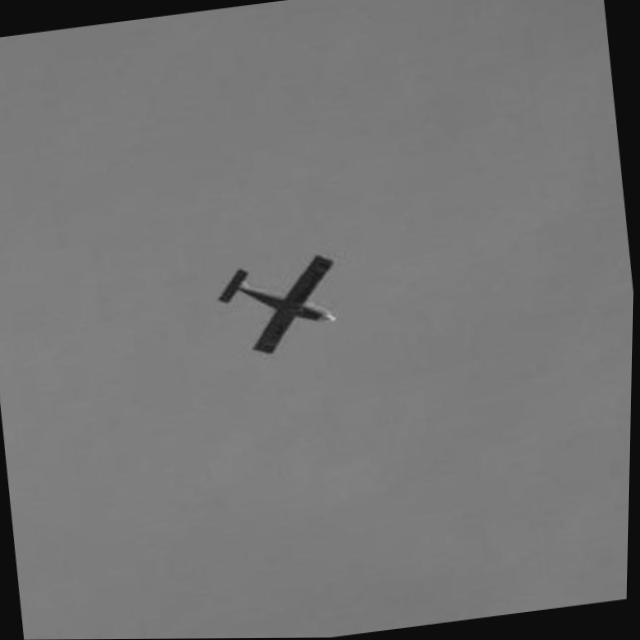aeroplane: (211, 251, 350, 361)
